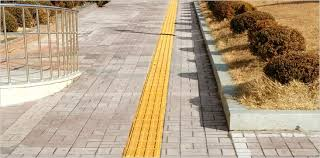guide_blocks: (130, 117, 163, 158), (141, 76, 167, 116), (146, 49, 172, 75), (155, 23, 173, 49), (164, 1, 178, 23)
